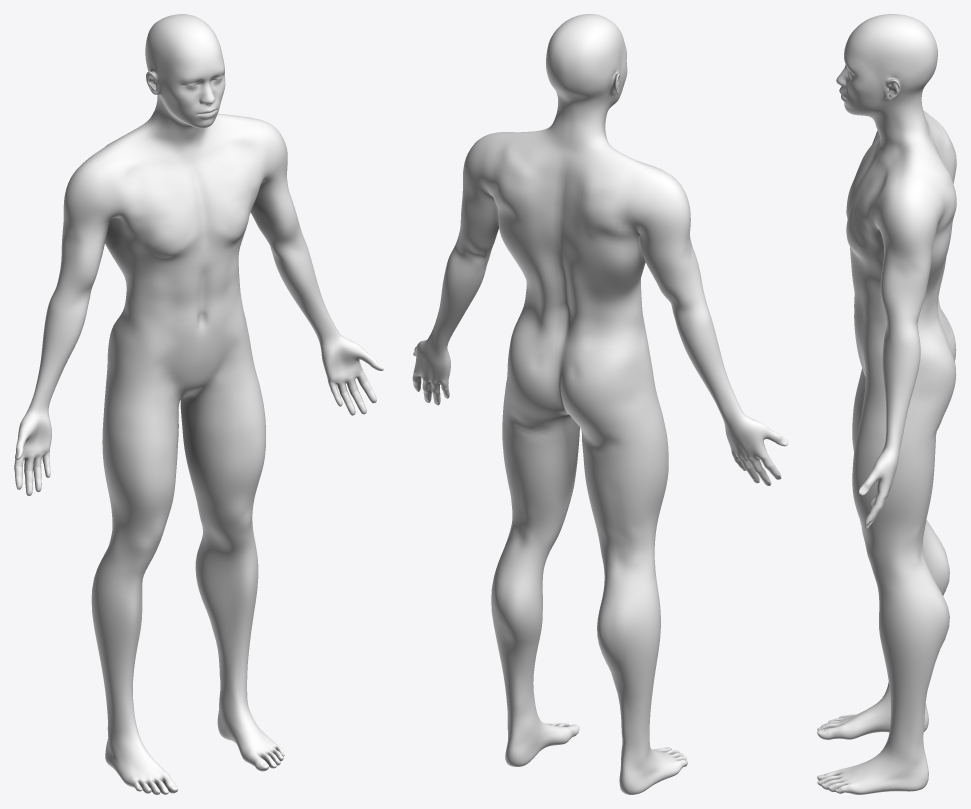
File: aura-body.glb
3 views of the same model, side by side, from view 1: azimuth 30°, elevation 25°; view 2: azimuth 150°, elevation 25°; view 3: azimuth 270°, elevation 25° (orthographic).
Visible parts, largest first — view 1: AuraBody; view 2: AuraBody; view 3: AuraBody.
Part boxes in pixels (x1,y1,x2,y2): AuraBody: (14,14,383,794); AuraBody: (412,14,788,794); AuraBody: (817,14,956,794).
Size of the model in its own units: 0.8939 by 1.72 by 0.292.
1 material, 1 textured.
